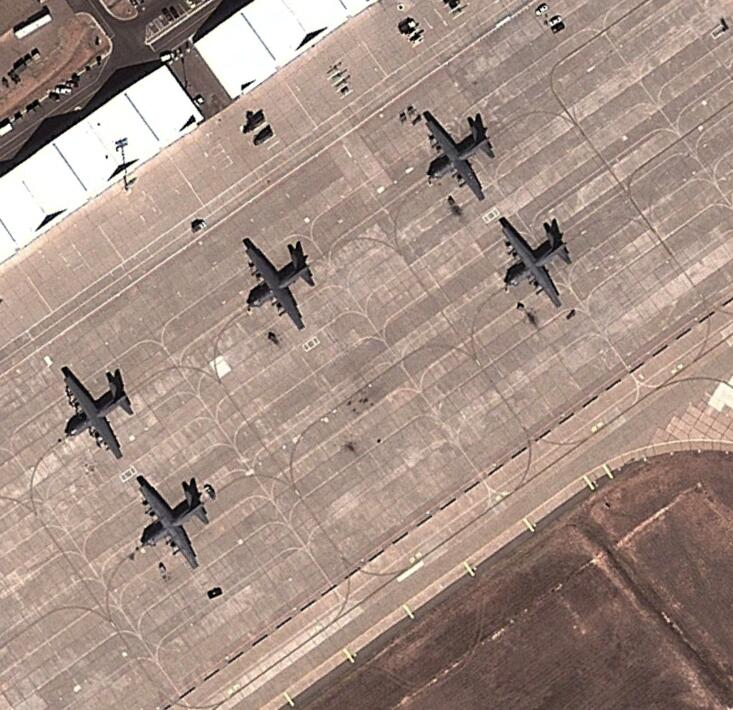A2: (499, 217, 574, 311), (421, 111, 498, 202), (135, 479, 209, 572), (61, 371, 135, 459), (243, 243, 312, 330)
